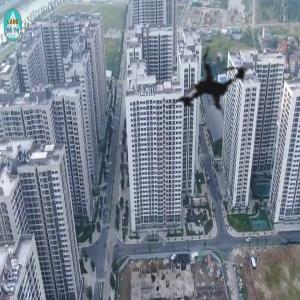drone: (136, 14, 280, 158)
